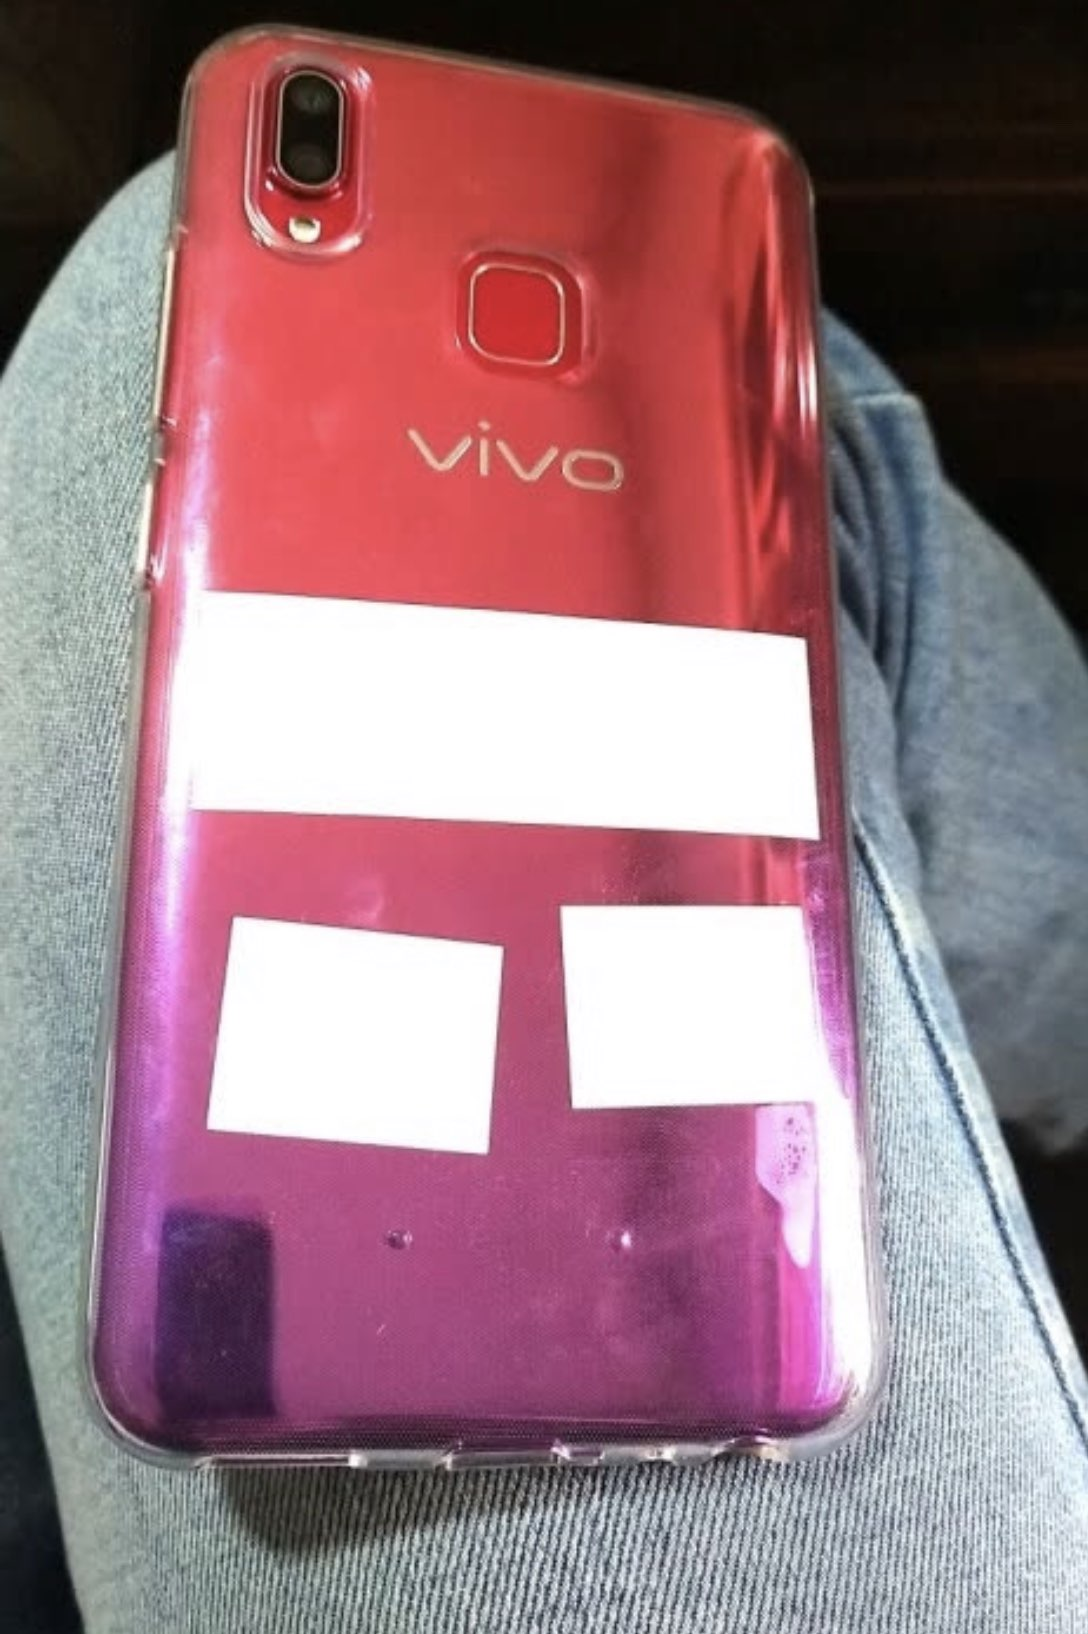mobil: (75, 17, 894, 1466)
